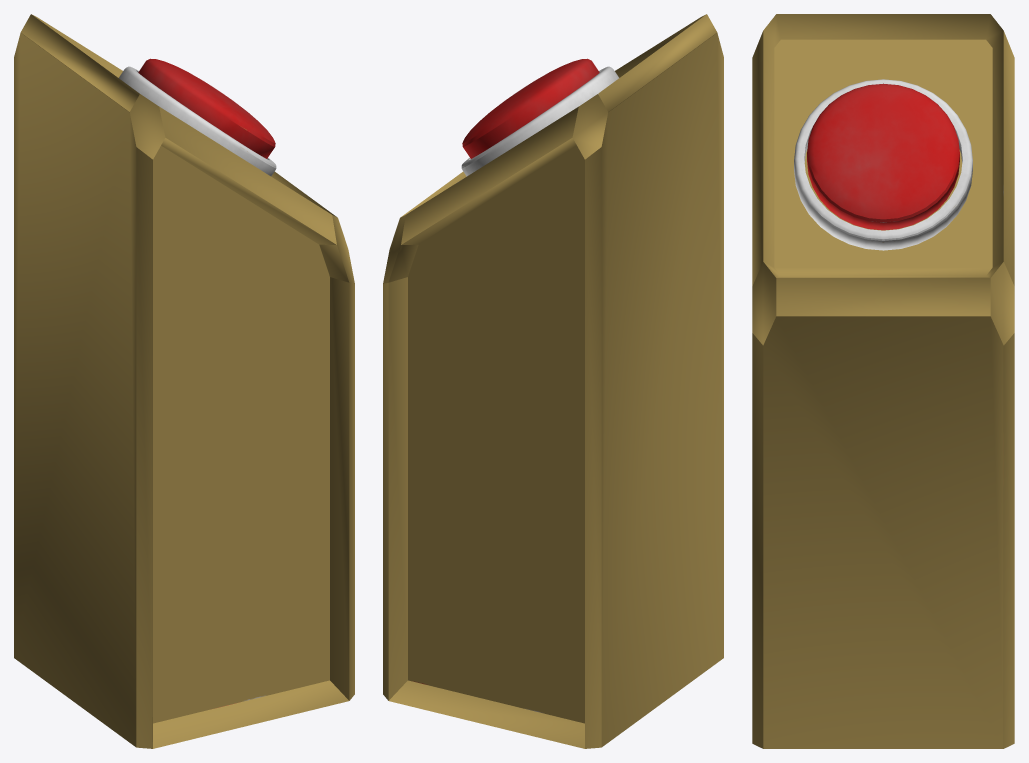
Rendered from button_with_stand.glb.
The picture shows the model from 3 angles, left to right: view 1: azimuth 30°, elevation 25°; view 2: azimuth 150°, elevation 25°; view 3: azimuth 270°, elevation 25°; orthographic projection.
Visible parts, largest first — view 1: Object_2; view 2: Object_2; view 3: Object_2.
Boxes of the visible parts, x1,y1,x2,y2 form: Object_2: (14,14,354,748); Object_2: (383,14,723,748); Object_2: (752,14,1014,748).
Bounding box in the file's own units: 1.47 × 4.14 × 1.55.
Materials: 1 (1 with a texture image).
